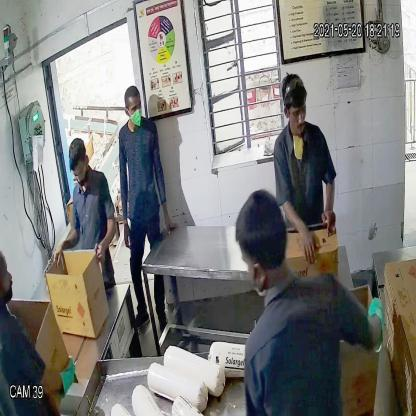no_goggles: (284, 103, 308, 120)
